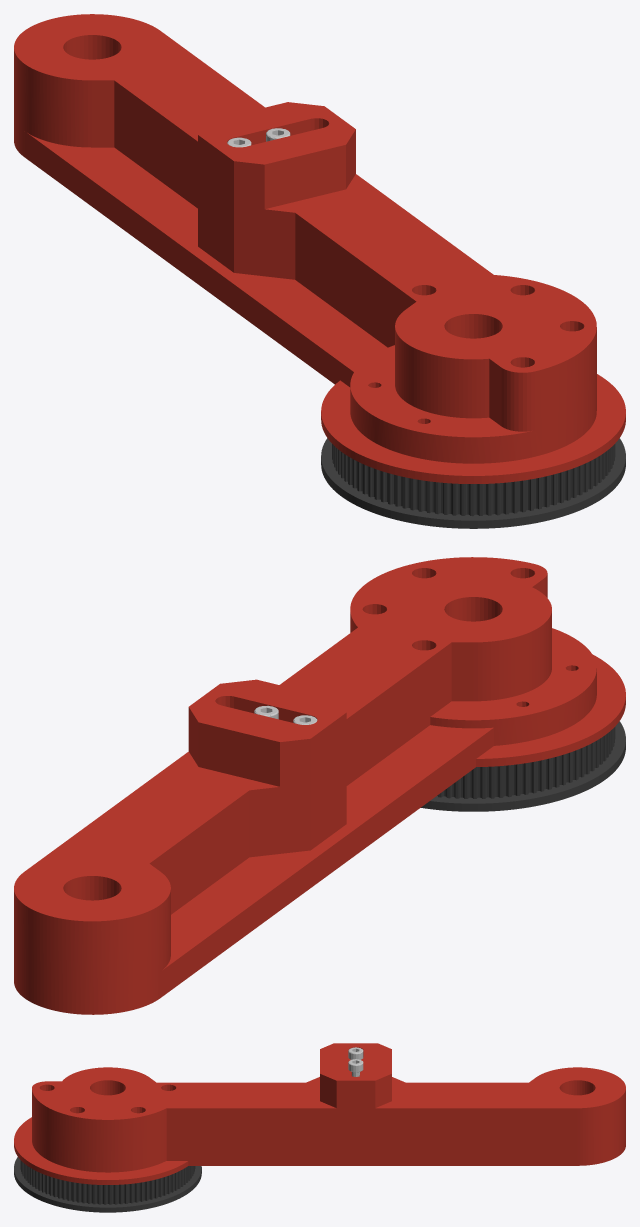
The picture shows the model from 3 angles, top to bottom: view 1: azimuth 30°, elevation 25°; view 2: azimuth 150°, elevation 25°; view 3: azimuth 270°, elevation 25°; orthographic projection. The views are drawn at different scales.
Visible parts, largest first — view 1: node1, node0, node2; view 2: node1, node2, node0; view 3: node1, node0, node2.
Part boxes in pixels (x1,y1,x2,y2): node1: (14, 14, 625, 483); node0: (321, 438, 625, 528); node2: (198, 102, 355, 209); node1: (14, 557, 625, 1014); node2: (188, 679, 346, 786); node0: (421, 721, 625, 811); node1: (14, 1067, 625, 1184); node0: (14, 1157, 201, 1212); node2: (320, 1043, 391, 1108).
Size of the model in its own units: 0.068 by 0.2215 by 0.045.
